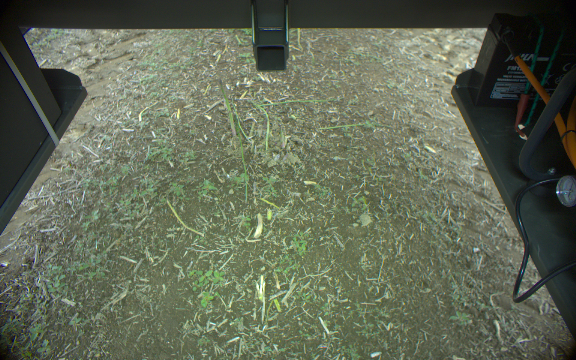aspa: (217, 77, 237, 138), (275, 121, 285, 149)
